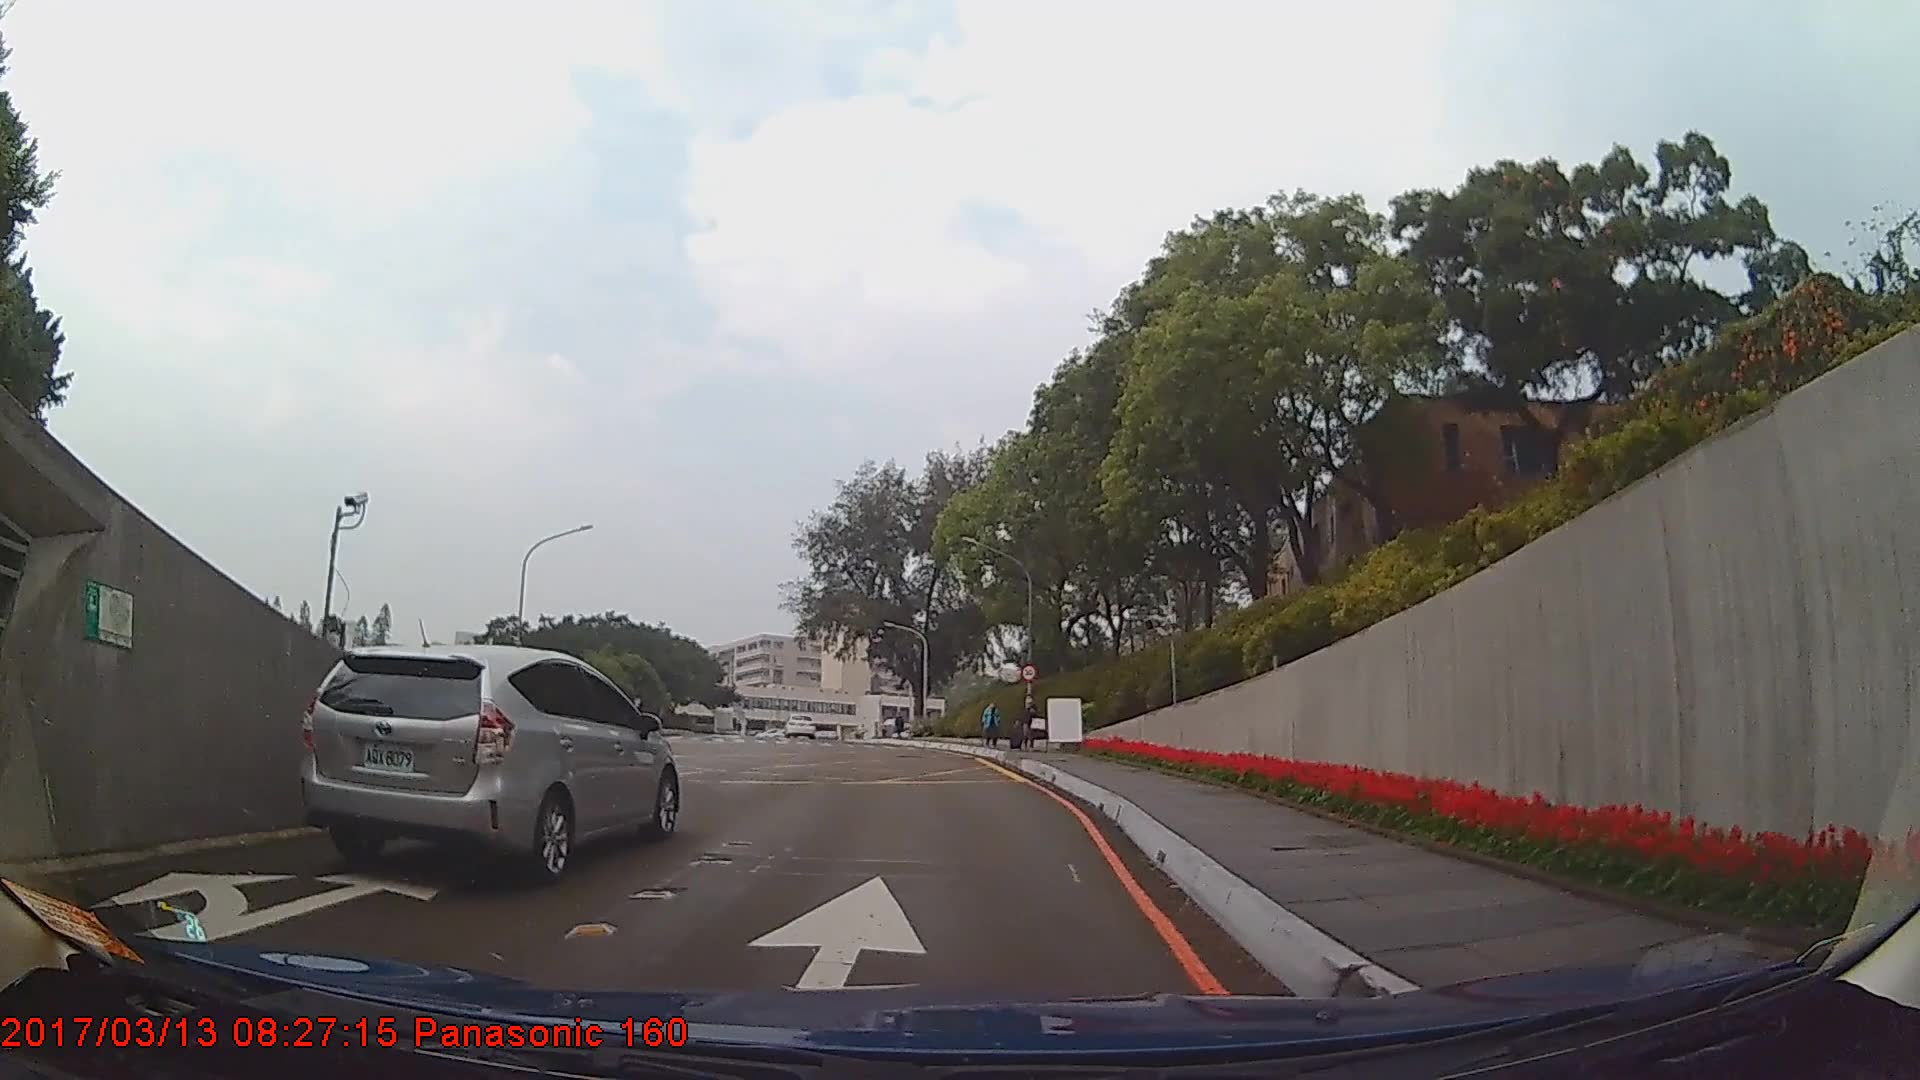pedestrian: (1010, 696, 1047, 753), (980, 702, 1001, 751)
vehicle: (293, 644, 677, 887), (784, 713, 817, 740)
